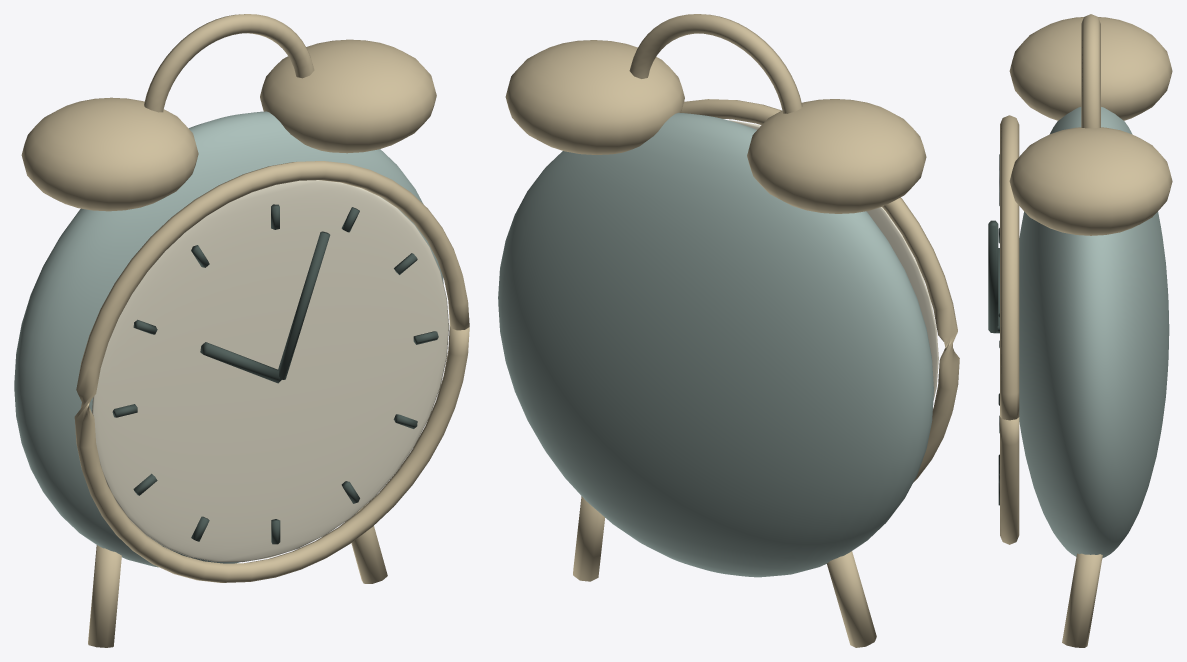
Rendered from alarm_clock.glb.
3 renders of one model, left to right at view 1: azimuth 30°, elevation 25°; view 2: azimuth 150°, elevation 25°; view 3: azimuth 270°, elevation 25°, orthographic. The views are drawn at different scales.
Visible parts, largest first — view 1: alarm_clock__face, alarm_clock__accent, alarm_clock__body, alarm_clock__hands; view 2: alarm_clock__body, alarm_clock__accent, alarm_clock__face; view 3: alarm_clock__body, alarm_clock__accent, alarm_clock__hands.
Boxes of the visible parts, x1,y1,x2,y2 form: alarm_clock__face: (92, 180, 448, 562); alarm_clock__accent: (21, 14, 469, 647); alarm_clock__body: (14, 111, 443, 567); alarm_clock__hands: (112, 204, 438, 544); alarm_clock__body: (498, 112, 933, 577); alarm_clock__accent: (505, 14, 959, 647); alarm_clock__face: (728, 120, 938, 400); alarm_clock__body: (1019, 107, 1169, 558); alarm_clock__accent: (1000, 14, 1172, 647); alarm_clock__hands: (988, 154, 999, 505).
Size of the model in its own units: 0.142 by 0.19 by 0.0565.
